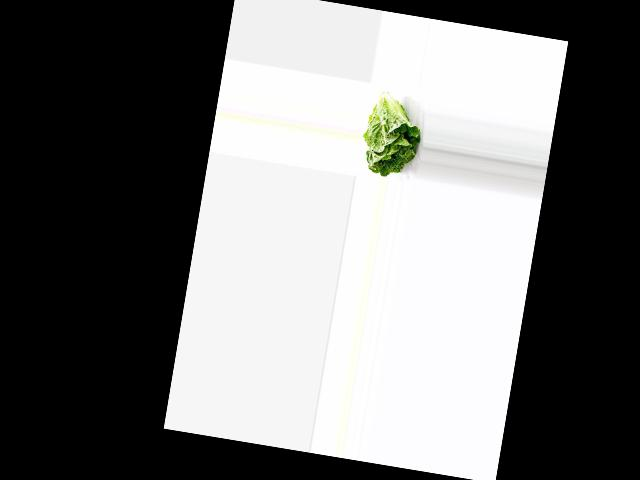lettuce: (356, 90, 427, 180)
